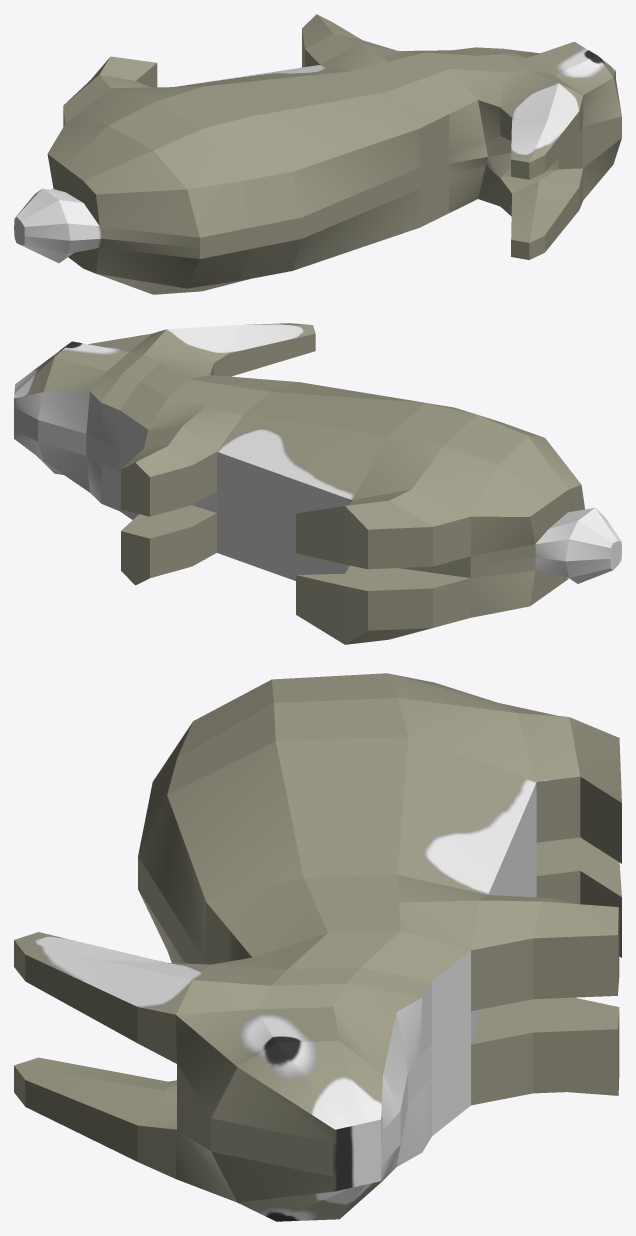
File: bunny.glb
3 renders of one model, top to bottom at view 1: azimuth 30°, elevation 25°; view 2: azimuth 150°, elevation 25°; view 3: azimuth 270°, elevation 25°, orthographic. The views are drawn at different scales.
Visible parts, largest first — view 1: Plane.002_Plane.003; view 2: Plane.002_Plane.003; view 3: Plane.002_Plane.003.
Boxes of the visible parts, <box> form: Plane.002_Plane.003: <box>14,14,621,294</box>; Plane.002_Plane.003: <box>14,323,621,644</box>; Plane.002_Plane.003: <box>14,673,621,1221</box>.
Bounding box in the file's own units: 0.5595 × 0.1465 × 0.3177.
1 material, 1 textured.
